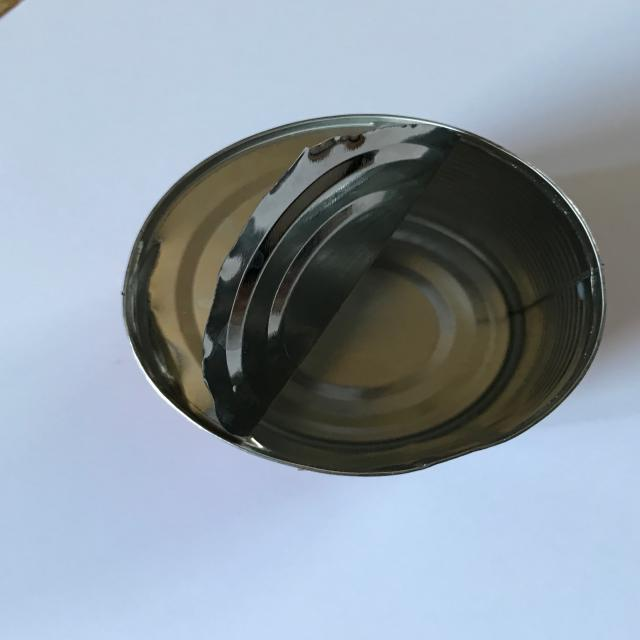metal: (120, 113, 606, 477)
